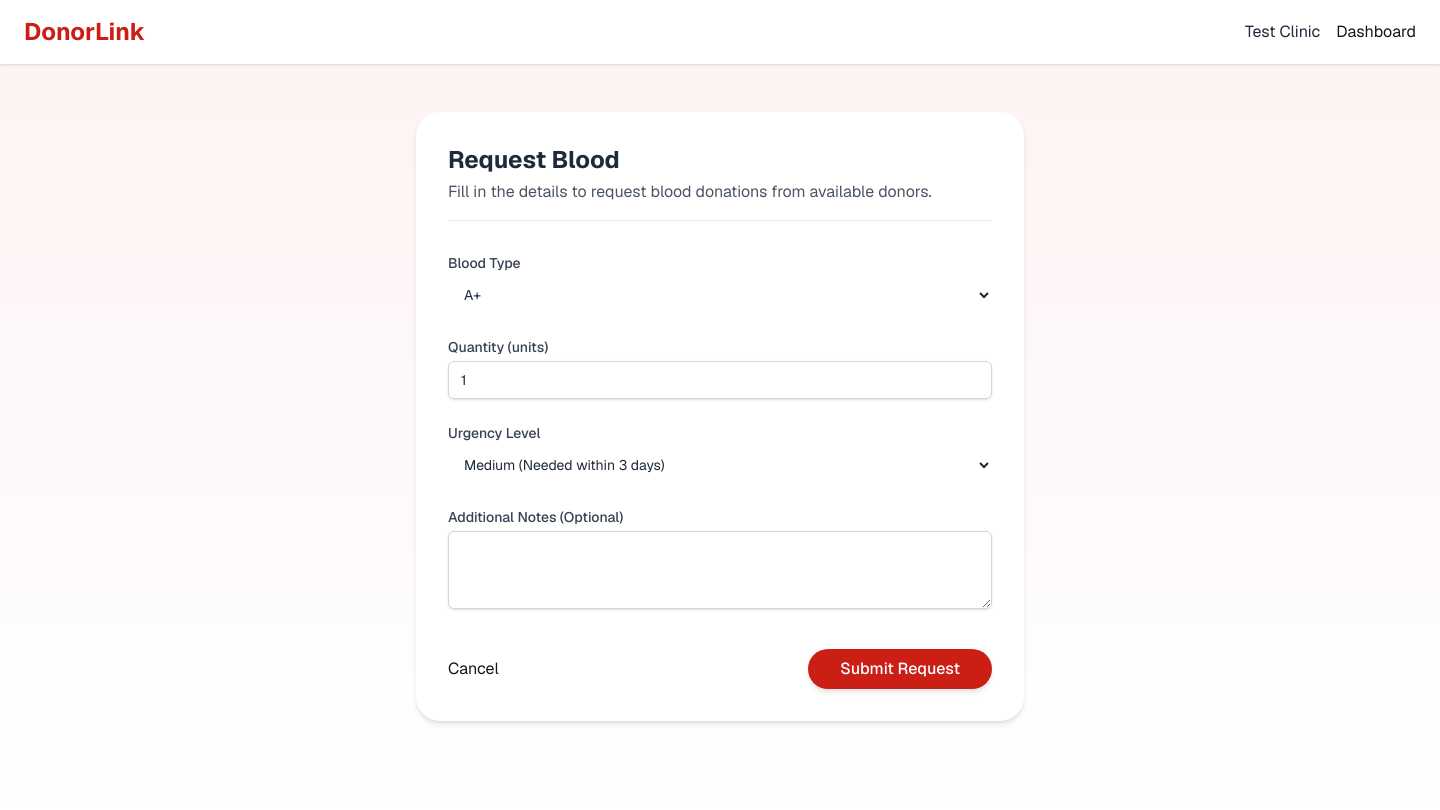
RequestBloodPage › should show error message on API failure
This screenshot has width=1440, height=810.
# Submit the form with default values
Click the button "Submit Request" at [900, 669], box x1=808 y1=649 x2=992 y2=689
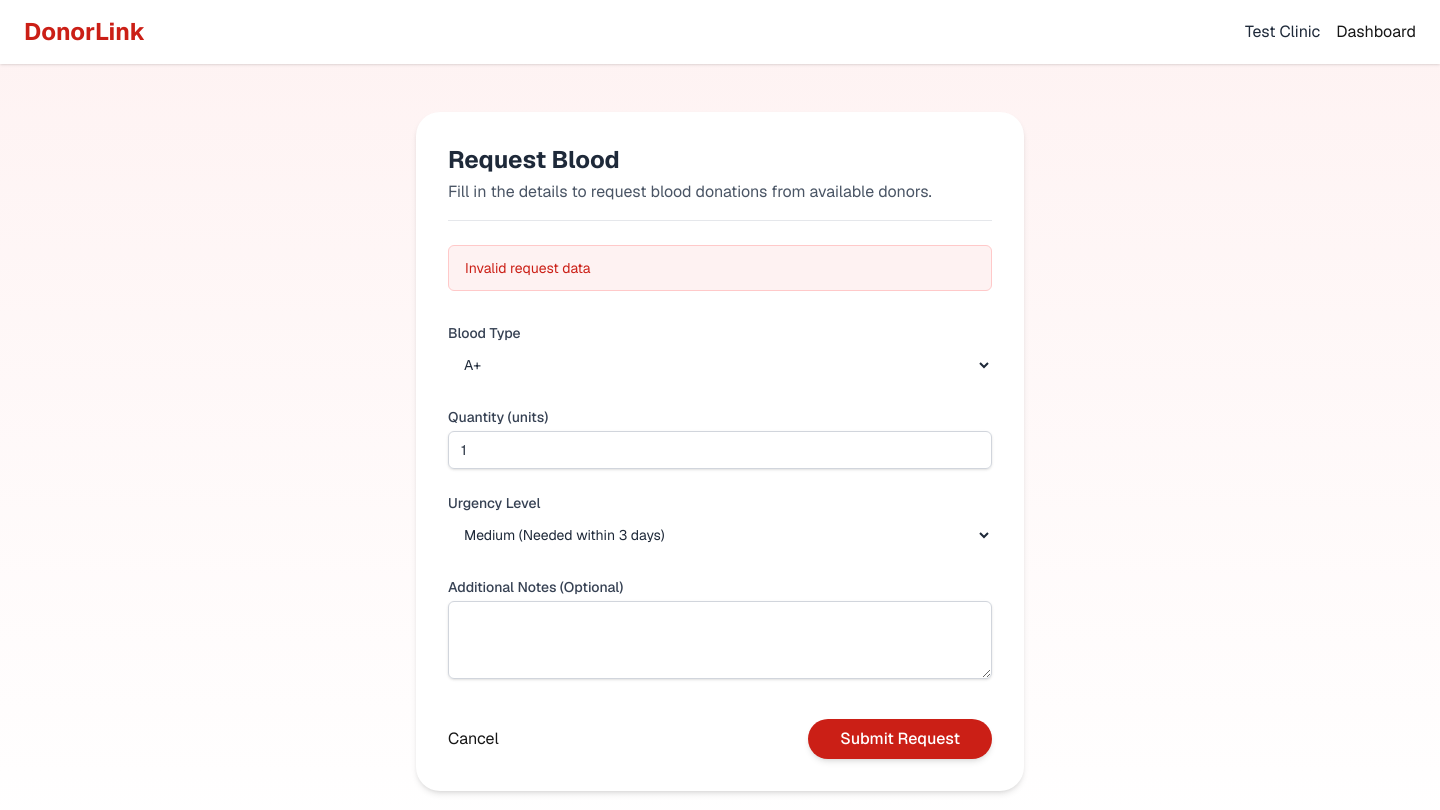
Expected: the heading "Request Blood" is shown, x1=448 y1=144 x2=620 y2=175
Expected: the text "Invalid request data" is shown, x1=448 y1=245 x2=992 y2=291
